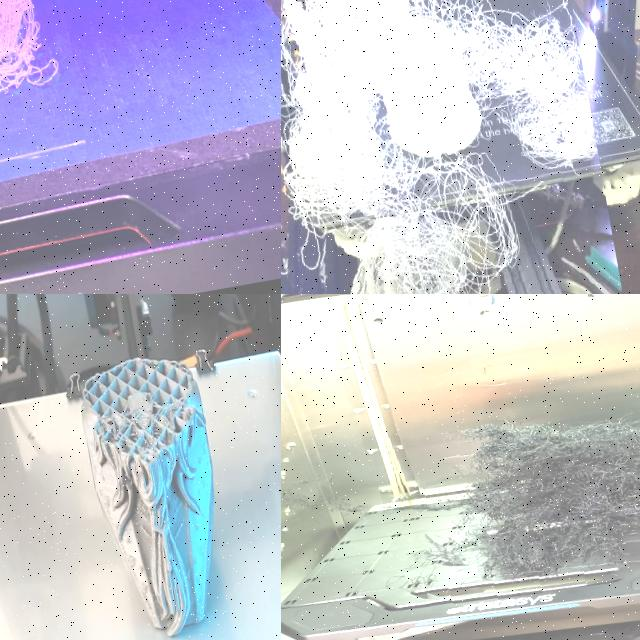spaghetti: (281, 0, 627, 294), (384, 364, 640, 614), (0, 0, 83, 143)
